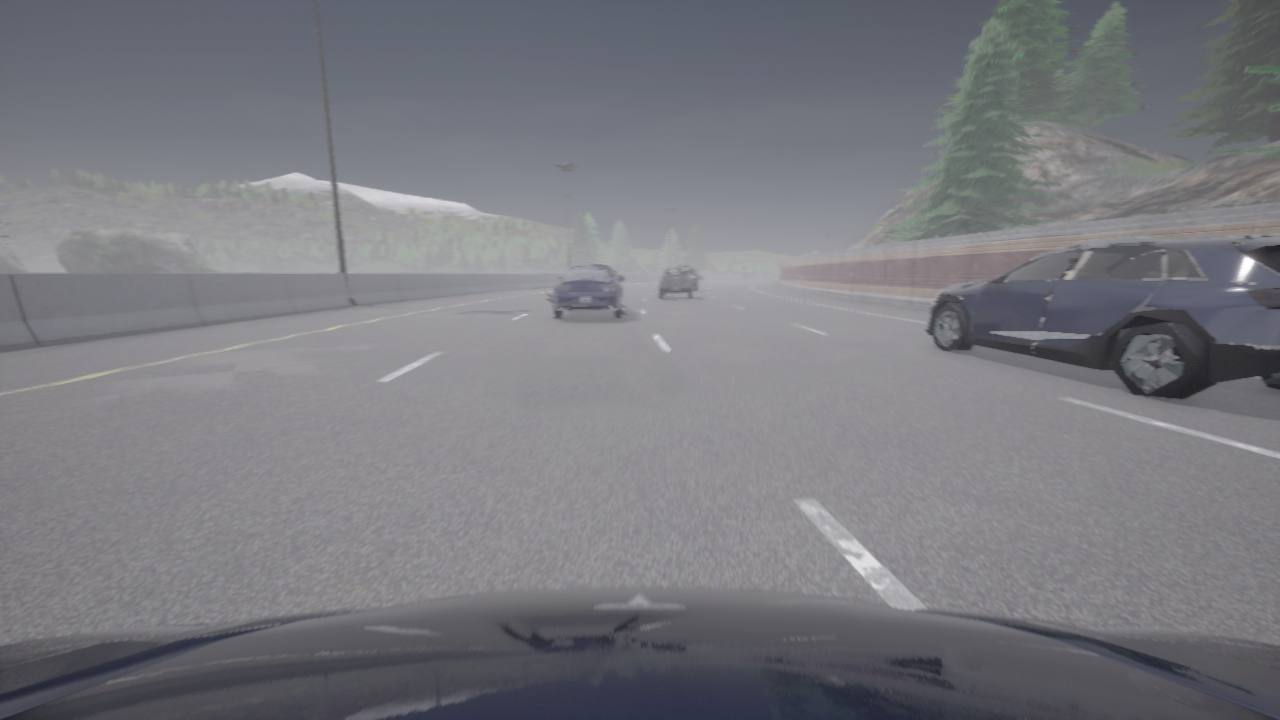cyclist: (0, 588, 1279, 719), (924, 234, 1279, 399), (547, 265, 628, 318), (658, 267, 693, 298), (676, 264, 698, 291), (695, 269, 703, 282), (615, 270, 618, 280)
